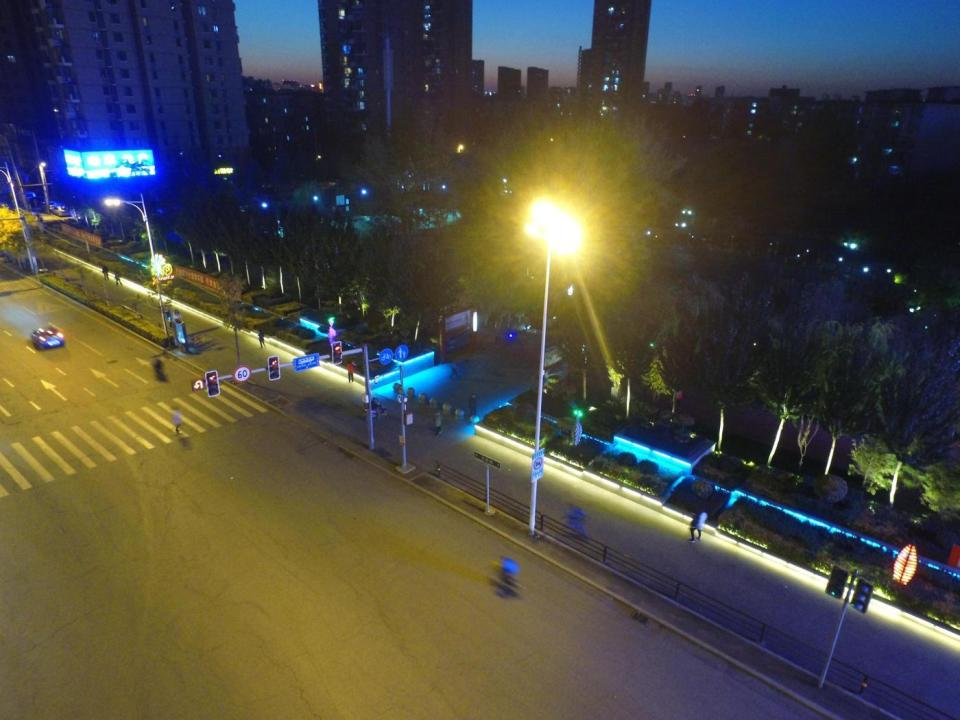car: (29, 324, 66, 350), (21, 190, 39, 207), (51, 205, 74, 217), (29, 196, 50, 208), (40, 201, 57, 213)
